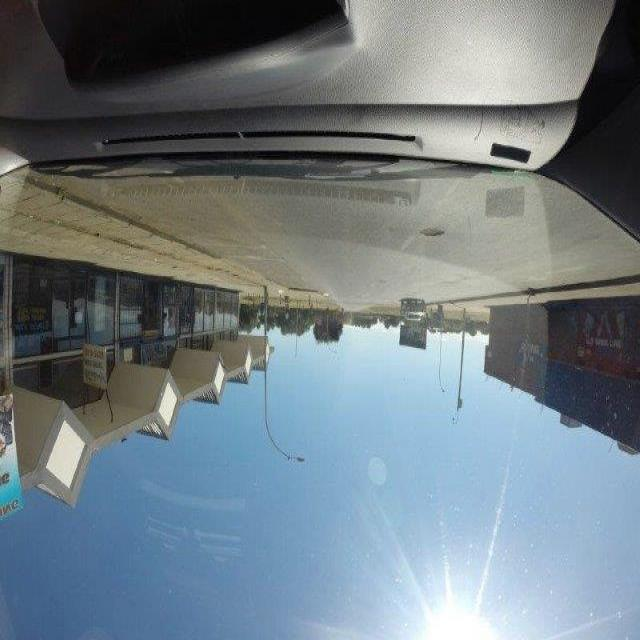lubang: (416, 222, 444, 245)
